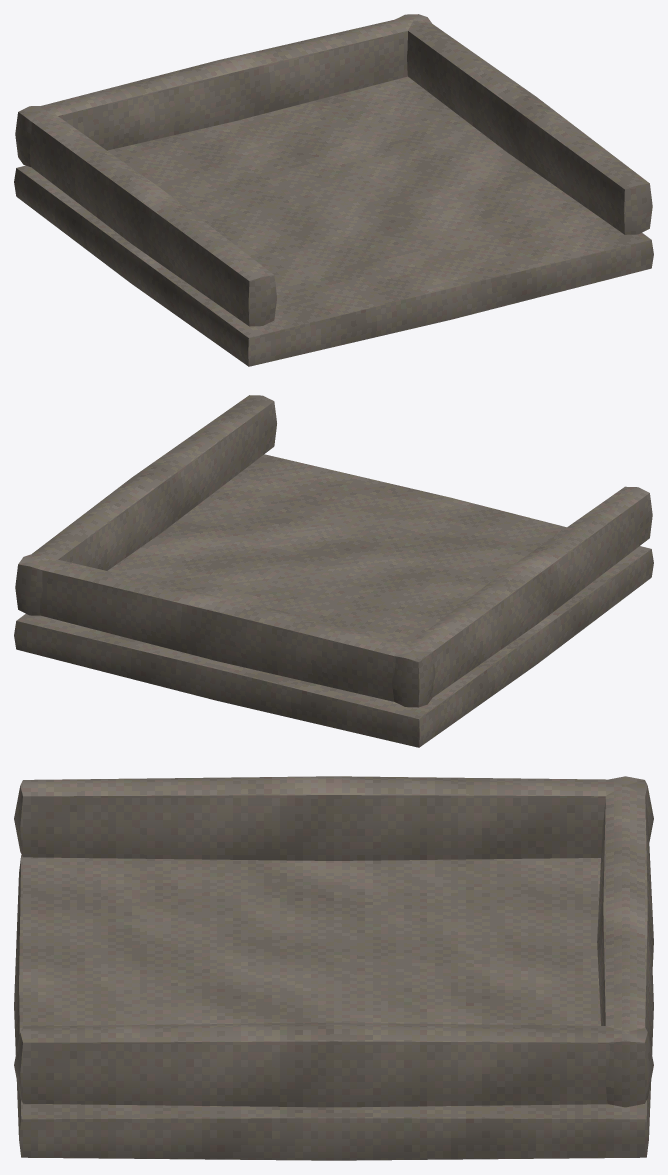
File: cattree_perch_tray.glb
3 views of the same model, one above another, from view 1: azimuth 30°, elevation 25°; view 2: azimuth 150°, elevation 25°; view 3: azimuth 270°, elevation 25° (orthographic). The views are drawn at different scales.
Visible parts, largest first — view 1: board, lip (×3); view 2: board, lip (×3); view 3: board, lip (×3).
Part boxes in pixels (x1,y1,x2,y2): board: (14,76,653,366); lip (×3): (15,14,652,326); board: (14,454,653,747); lip (×3): (15,395,652,707); board: (14,855,653,1160); lip (×3): (14,776,653,1107).
Size of the model in its own units: 0.45 by 0.1 by 0.45.
1 material, 1 textured.
